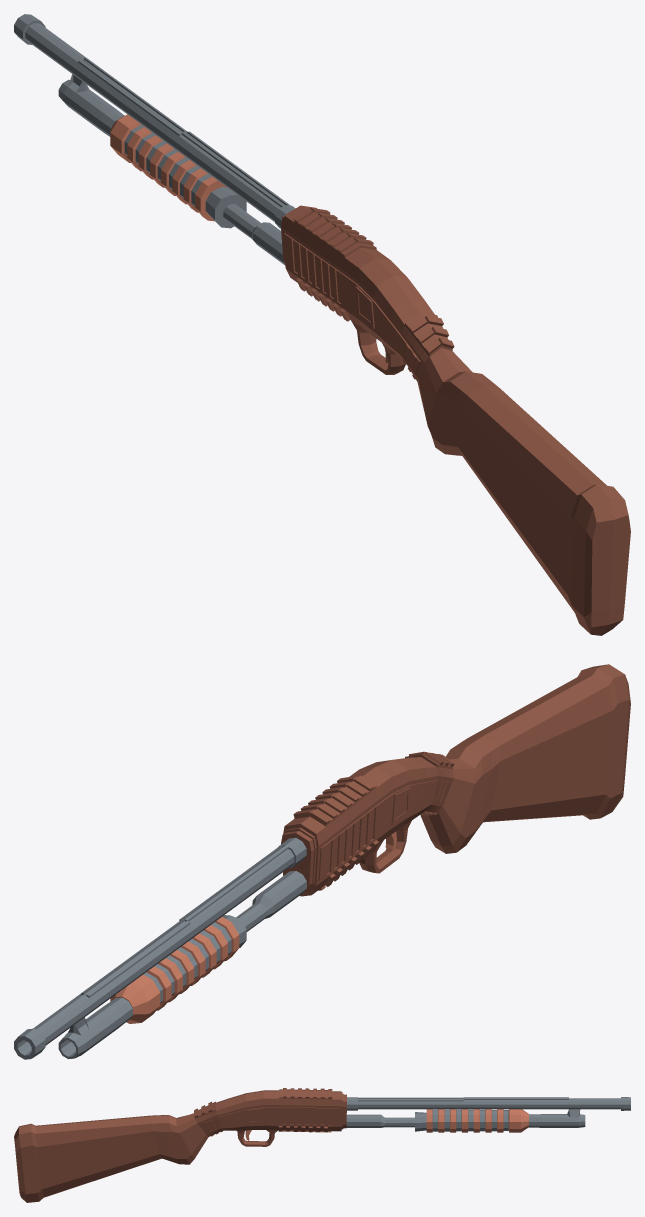
Rendered from Pump_2.fbx.
3 views of the same model, one above another, from view 1: azimuth 30°, elevation 25°; view 2: azimuth 150°, elevation 25°; view 3: azimuth 270°, elevation 25° (orthographic). The views are drawn at different scales.
Visible parts, largest first — view 1: Pump_2; view 2: Pump_2; view 3: Pump_2.
Boxes of the visible parts, bbox=[...] form: Pump_2: bbox=[14, 14, 630, 635]; Pump_2: bbox=[14, 664, 630, 1059]; Pump_2: bbox=[14, 1088, 630, 1202].
Bounding box in the file's own units: 392 × 1862 × 9198.
